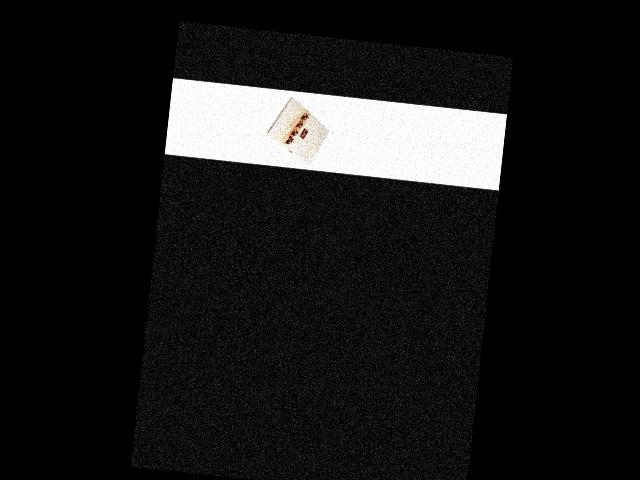chocolate: (262, 89, 331, 166)
